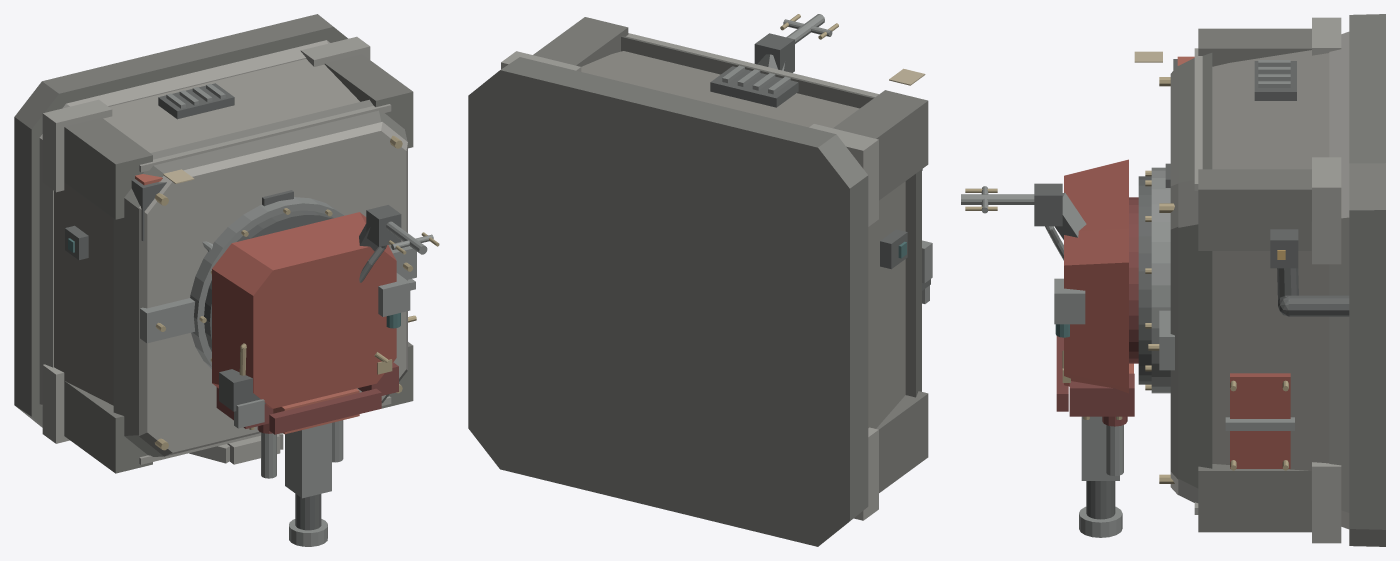
Rendered from martian_heavy_weapon_bunker_source_geometry_v03.glb.
3 renders of one model, left to right at view 1: azimuth 30°, elevation 25°; view 2: azimuth 150°, elevation 25°; view 3: azimuth 270°, elevation 25°, orthographic. The views are drawn at different scales.
Parts seen in each view (by area): view 1: 05_top_concrete_skin, 16_martian_red_turret_armor, 03_monolithic_bunker_mass, 01_foundation_granular_ferrocrete, 04_upper_blast_cap, 02_lower_blast_raft, 06_corner_armor_buttress_WN, 06_corner_armor_buttress_WS, 13_ring_lower_bearing_seat, 06_corner_armor_buttress_EN, 21_gun_tube_outer_shroud, 07_corner_buttress_foot_WN (+22 smaller); view 2: 01_foundation_granular_ferrocrete, 03_monolithic_bunker_mass, 04_upper_blast_cap, 06_corner_armor_buttress_WN, 06_corner_armor_buttress_WS, 06_corner_armor_buttress_EN, 07_corner_buttress_foot_WN, 44_rear_vent_guard, 54_north_slab_anchor_strip, 31_antenna_base, 07_corner_buttress_foot_WS, 66_bunker_condition_gauge; view 3: 03_monolithic_bunker_mass, 01_foundation_granular_ferrocrete, 04_upper_blast_cap, 16_martian_red_turret_armor, 06_corner_armor_buttress_EN, 02_lower_blast_raft, 06_corner_armor_buttress_ES, 55_east_wall_controller_armor, 13_ring_lower_bearing_seat, 05_top_concrete_skin, 06_corner_armor_buttress_WN, 07_corner_buttress_foot_EN (+21 smaller).
Part boxes in pixels (box(x1,y1,x2,y2)): 05_top_concrete_skin: box(139, 122, 407, 456); 16_martian_red_turret_armor: box(212, 212, 396, 408); 03_monolithic_bunker_mass: box(54, 59, 359, 405); 01_foundation_granular_ferrocrete: box(14, 14, 347, 427); 04_upper_blast_cap: box(113, 99, 407, 456); 02_lower_blast_raft: box(39, 40, 329, 406); 06_corner_armor_buttress_WN: box(64, 117, 152, 219); 06_corner_armor_buttress_WS: box(64, 381, 152, 473); 13_ring_lower_bearing_seat: box(190, 197, 344, 368); 06_corner_armor_buttress_EN: box(324, 54, 413, 148); 21_gun_tube_outer_shroud: box(285, 423, 331, 498); 07_corner_buttress_foot_WN: box(42, 99, 112, 192); 01_foundation_granular_ferrocrete: box(468, 57, 868, 546); 03_monolithic_bunker_mass: box(581, 51, 905, 428); 04_upper_blast_cap: box(621, 36, 921, 397); 06_corner_armor_buttress_WN: box(833, 90, 928, 200); 06_corner_armor_buttress_WS: box(876, 391, 928, 492); 06_corner_armor_buttress_EN: box(533, 17, 628, 66); 07_corner_buttress_foot_WN: box(809, 124, 878, 226); 44_rear_vent_guard: box(710, 66, 798, 107); 54_north_slab_anchor_strip: box(626, 33, 878, 96); 31_antenna_base: box(754, 33, 794, 72); 07_corner_buttress_foot_WS: box(854, 427, 878, 520); 66_bunker_condition_gauge: box(880, 229, 907, 269); 03_monolithic_bunker_mass: box(1212, 50, 1329, 500); 01_foundation_granular_ferrocrete: box(1349, 14, 1385, 546); 04_upper_blast_cap: box(1178, 53, 1212, 502); 16_martian_red_turret_armor: box(1064, 159, 1128, 393); 06_corner_armor_buttress_EN: box(1198, 169, 1311, 250); 02_lower_blast_raft: box(1329, 31, 1349, 529); 06_corner_armor_buttress_ES: box(1198, 464, 1311, 532); 55_east_wall_controller_armor: box(1230, 373, 1290, 468); 13_ring_lower_bearing_seat: box(1151, 167, 1170, 393); 05_top_concrete_skin: box(1170, 66, 1178, 494); 06_corner_armor_buttress_WN: box(1198, 28, 1311, 66); 07_corner_buttress_foot_EN: box(1312, 157, 1341, 264).
Size of the model in its own units: 3.08 by 3.44 by 3.01.
